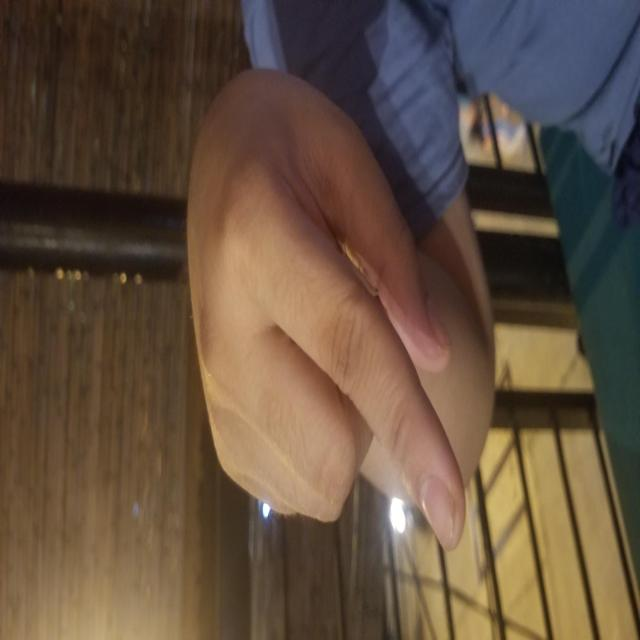Z: (178, 51, 464, 566)
